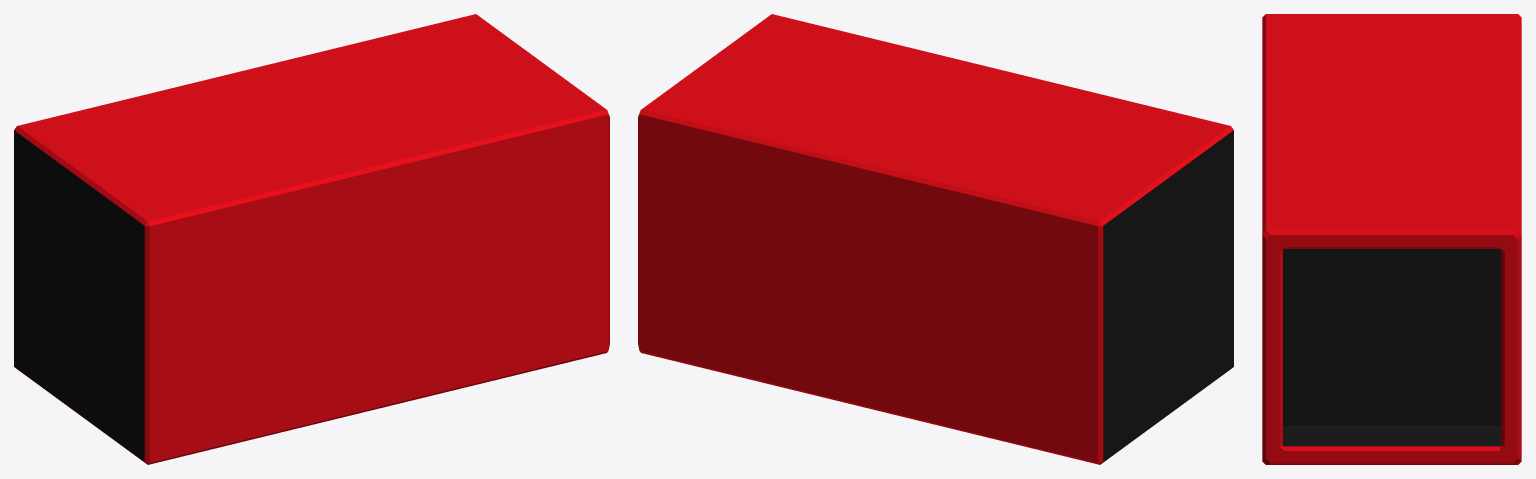
Rendered from rocketTurretTop.fbx.
3 views of the same model, side by side, from view 1: azimuth 30°, elevation 25°; view 2: azimuth 150°, elevation 25°; view 3: azimuth 270°, elevation 25° (orthographic). The views are drawn at different scales.
Visible parts, largest first — view 1: Cube; view 2: Cube; view 3: Cube.
Boxes of the visible parts, <box> form: Cube: <box>14,14,609,464</box>; Cube: <box>638,14,1233,464</box>; Cube: <box>1262,14,1521,464</box>.
Size of the model in its own units: 100 by 50 by 50.
